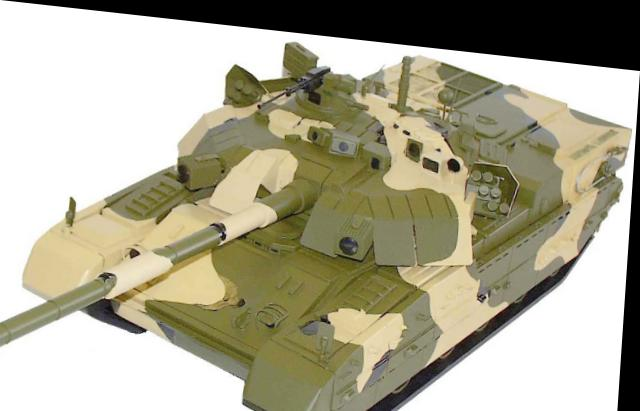other: (82, 31, 625, 410)
